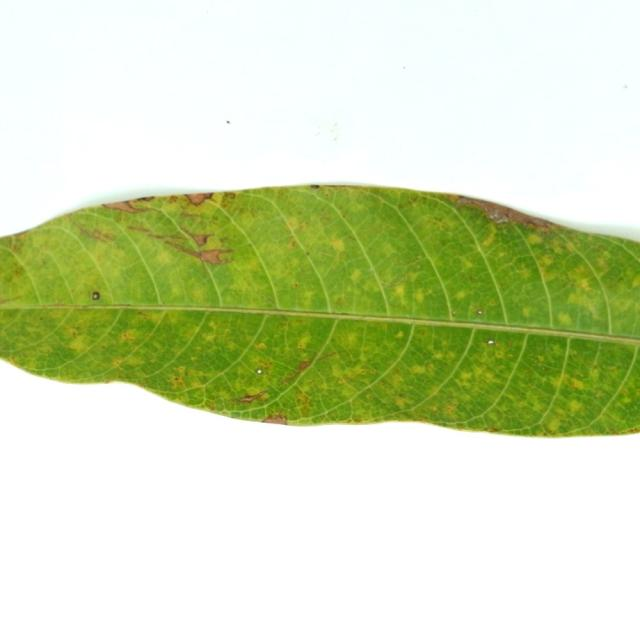Mango: (0, 185, 639, 436)
Powdery_Mildew: (194, 320, 236, 347), (101, 200, 152, 214), (455, 195, 494, 213), (197, 248, 234, 265), (311, 185, 378, 194), (520, 216, 557, 231), (228, 391, 268, 404), (310, 309, 362, 318), (295, 390, 312, 417), (377, 242, 401, 261), (174, 381, 212, 393), (391, 276, 407, 304), (67, 335, 91, 353), (566, 290, 590, 308), (8, 232, 28, 252), (254, 292, 279, 308), (88, 228, 116, 242), (1, 305, 27, 320), (167, 281, 188, 299), (187, 232, 213, 246), (610, 424, 640, 435), (316, 350, 339, 363), (220, 192, 238, 208), (0, 294, 26, 305), (328, 237, 347, 252), (296, 334, 313, 350), (342, 331, 359, 347), (127, 224, 157, 233), (261, 414, 285, 425), (538, 254, 555, 269), (545, 417, 562, 432), (556, 312, 572, 326), (567, 399, 583, 413), (119, 330, 137, 342), (349, 268, 363, 283), (286, 216, 301, 230), (526, 234, 543, 246), (111, 356, 127, 368), (296, 359, 312, 371), (444, 193, 463, 203), (578, 278, 592, 291), (413, 289, 425, 304), (459, 371, 474, 383), (135, 310, 155, 319), (178, 212, 202, 219), (453, 290, 468, 301), (569, 378, 584, 389), (246, 206, 261, 217), (410, 365, 426, 375), (175, 365, 188, 377), (100, 378, 126, 384), (394, 397, 408, 408), (47, 302, 76, 307), (256, 358, 272, 367), (521, 306, 534, 317), (444, 404, 458, 414), (462, 273, 476, 283), (67, 327, 79, 337), (334, 295, 346, 305), (407, 196, 419, 206), (166, 195, 181, 203), (135, 196, 155, 202), (287, 238, 298, 248), (635, 381, 640, 402), (255, 342, 267, 350), (356, 367, 368, 375), (394, 330, 404, 339), (350, 417, 365, 423), (319, 215, 331, 222), (206, 401, 215, 410), (13, 268, 23, 276), (616, 275, 626, 283), (487, 427, 500, 433), (337, 378, 347, 385), (429, 405, 439, 412), (635, 275, 640, 288), (537, 355, 545, 363), (418, 328, 426, 336), (92, 292, 100, 300), (487, 300, 496, 307), (606, 366, 618, 371), (40, 259, 47, 267), (309, 184, 320, 189), (120, 303, 133, 307), (505, 353, 513, 358), (397, 394, 405, 399), (292, 282, 299, 287), (487, 340, 494, 344), (369, 268, 374, 273), (416, 255, 422, 259), (477, 310, 482, 314), (452, 311, 456, 315), (306, 251, 309, 255)
